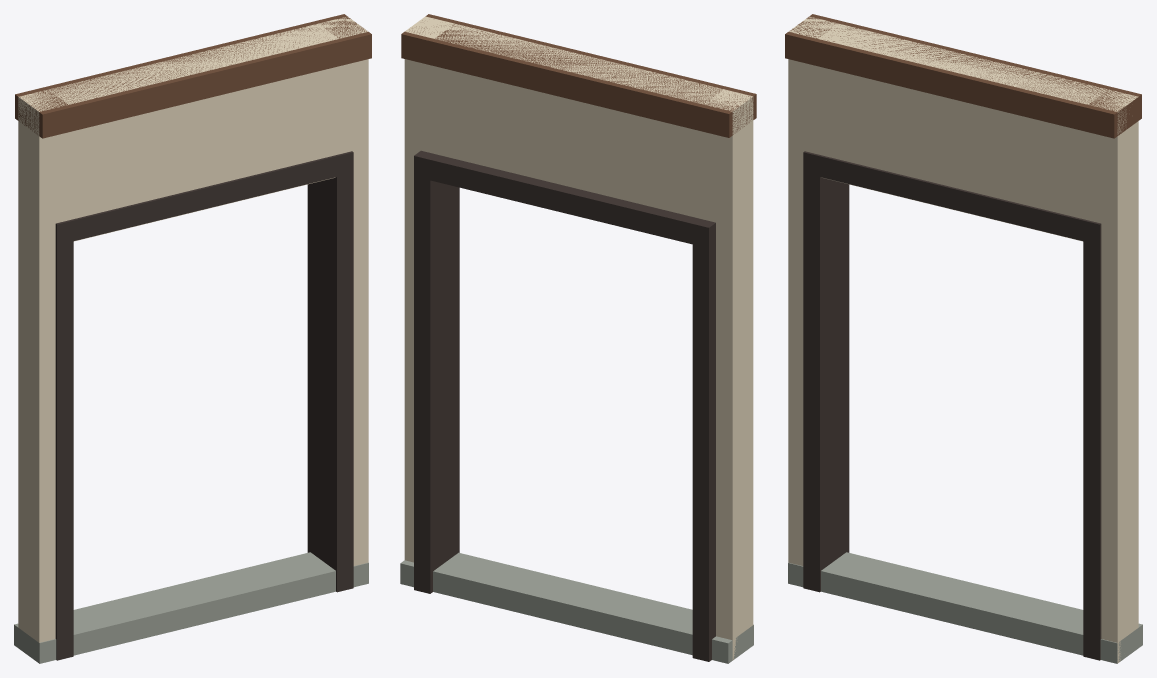
Rendered from wall_entry_2m.glb.
3 views of the same model, side by side, from view 1: azimuth 30°, elevation 25°; view 2: azimuth 150°, elevation 25°; view 3: azimuth 330°, elevation 25° (orthographic).
Visible parts, largest first — view 1: wall_entry_2m; view 2: wall_entry_2m; view 3: wall_entry_2m.
Boxes of the visible parts, x1=… form: wall_entry_2m: x1=14, y1=14, x2=371, y2=663; wall_entry_2m: x1=400, y1=14, x2=756, y2=663; wall_entry_2m: x1=785, y1=14, x2=1142, y2=663.
Bounding box in the file's own units: 2 × 3.2 × 0.33.
